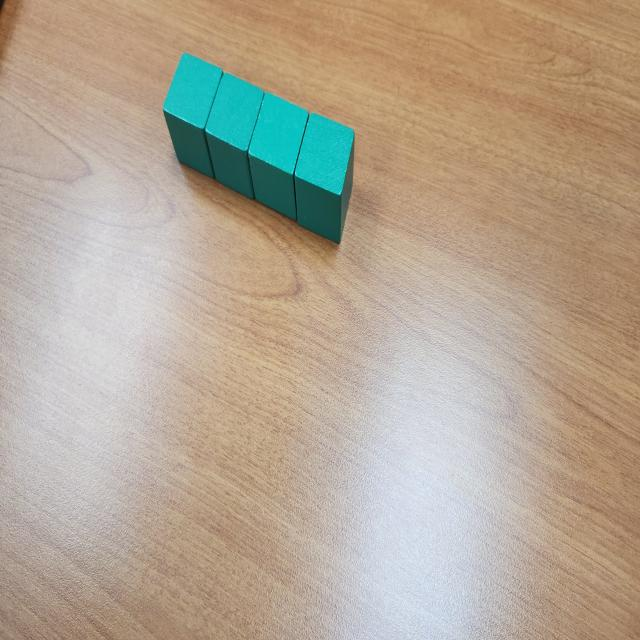green: (247, 92, 310, 222), (294, 113, 355, 245), (163, 53, 224, 181), (205, 71, 265, 201)
